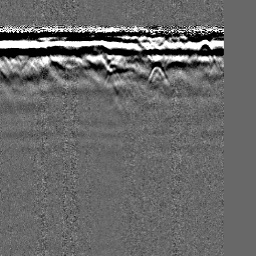cavity: (193, 36, 214, 60)
